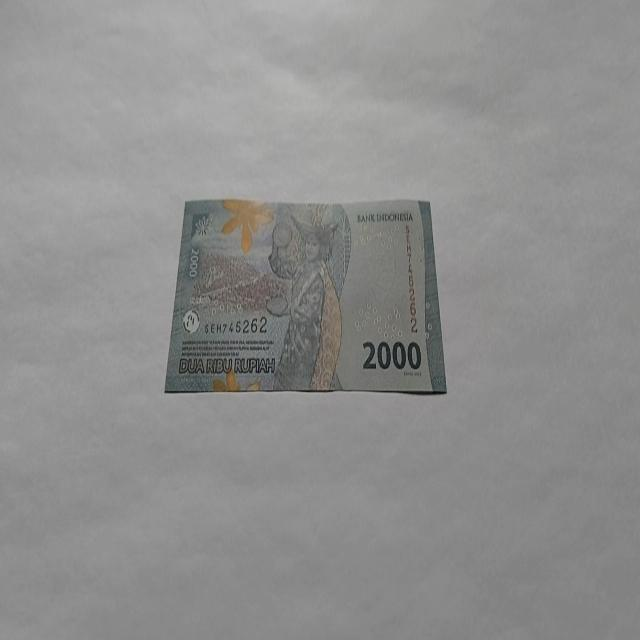dua ribu rupiah: (163, 196, 447, 396), (264, 209, 345, 391)
